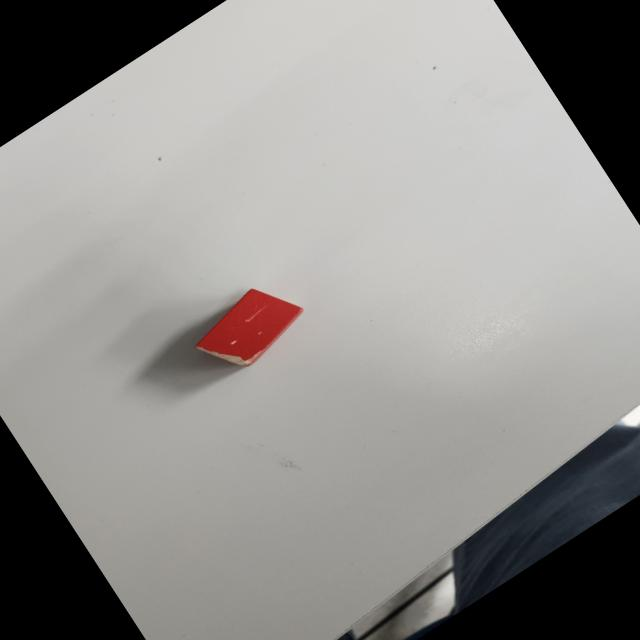broken: (182, 270, 312, 384)
